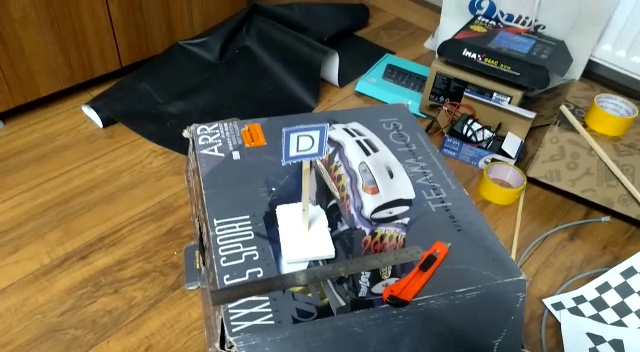durak: (279, 123, 327, 165)
